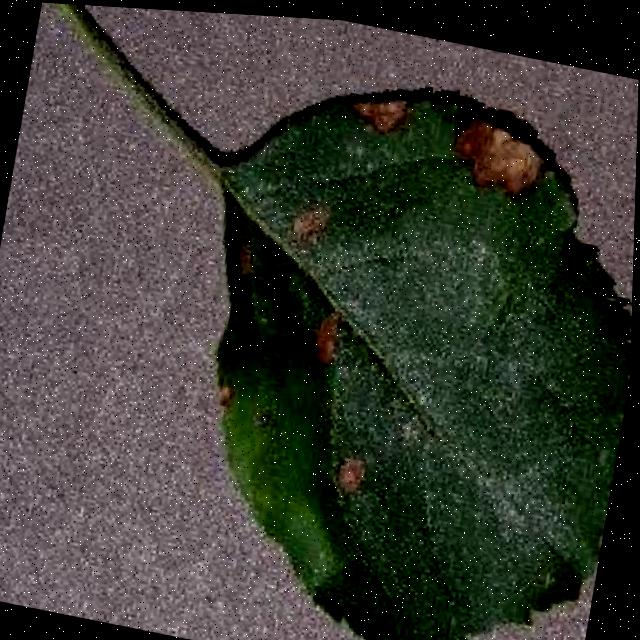black_rot: (440, 105, 563, 220), (339, 78, 423, 149), (223, 208, 282, 307), (276, 187, 349, 260), (302, 287, 354, 384), (322, 438, 382, 518)
